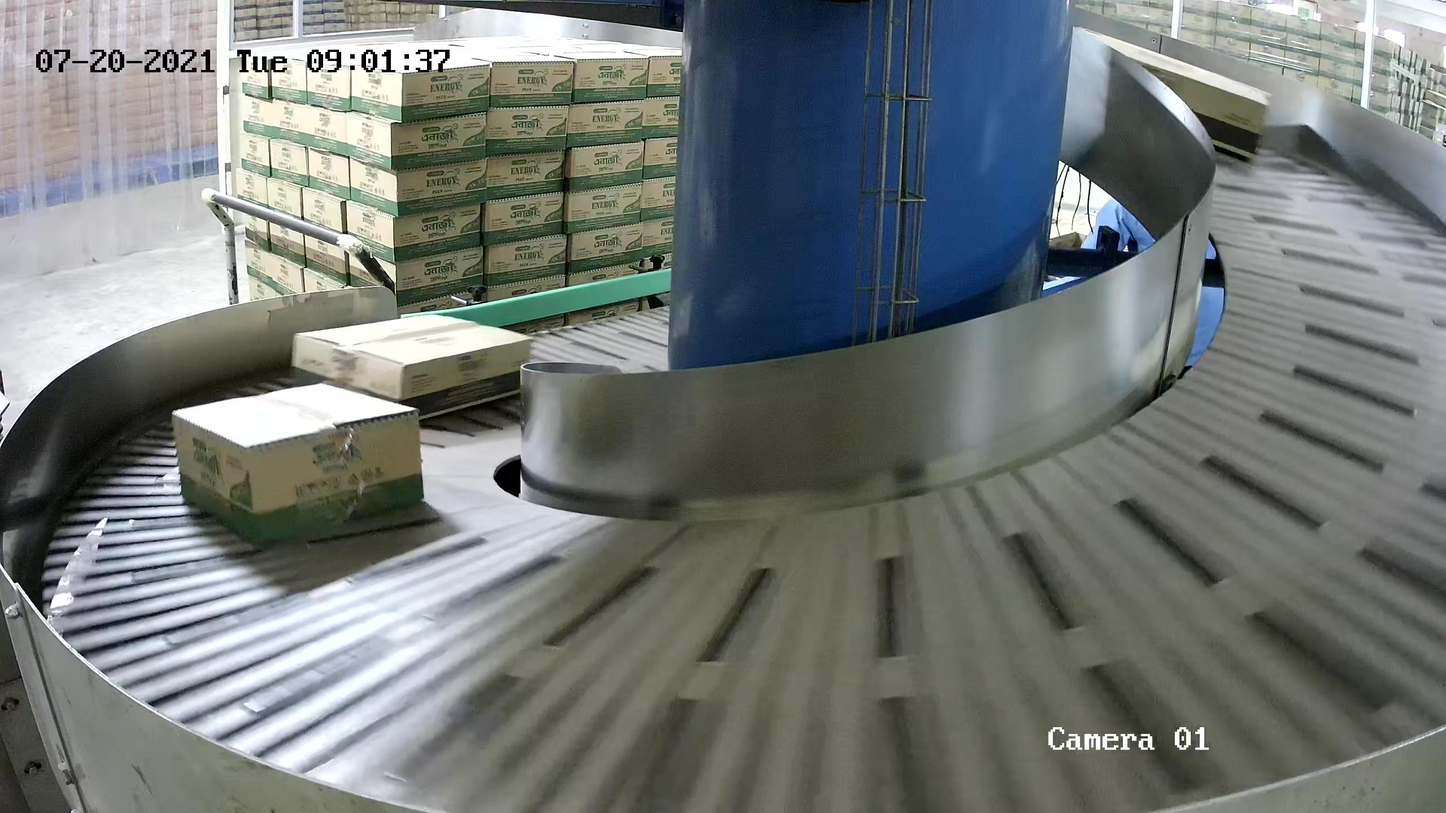Box: (171, 382, 426, 545), (1062, 26, 1273, 160), (293, 314, 532, 430)
